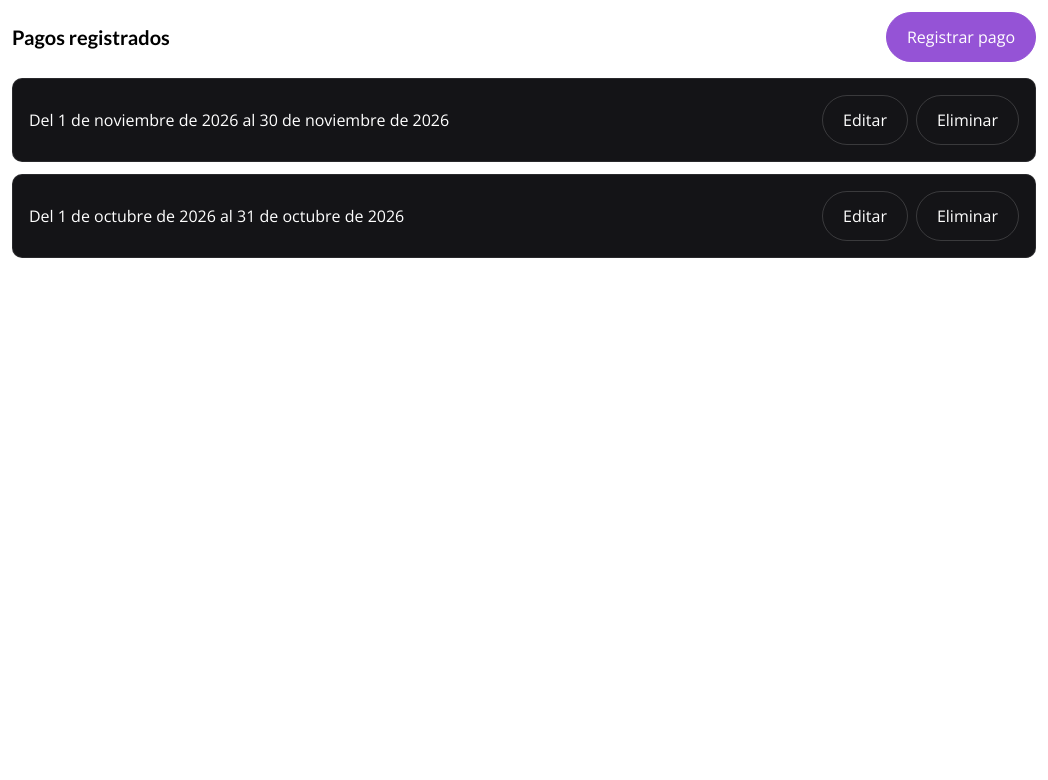
MemberPeriods › recording a payment › reads the member again when the dates overlap, and keeps the form with its message
The image size is (1048, 780).
Click the button "Registrar pago" at x=961, y=37, box [886,12,1036,62]
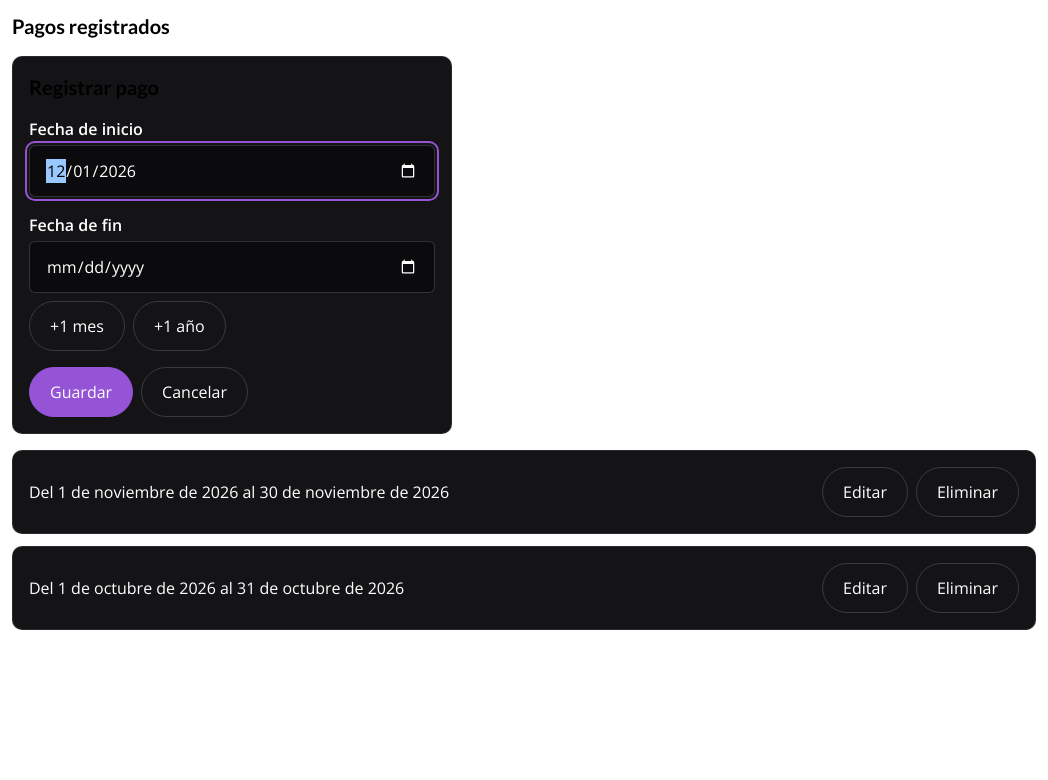
Type "2026-12-31" into the date field labelled "Fecha de fin" at x=232, y=267, box [29,241,435,293]
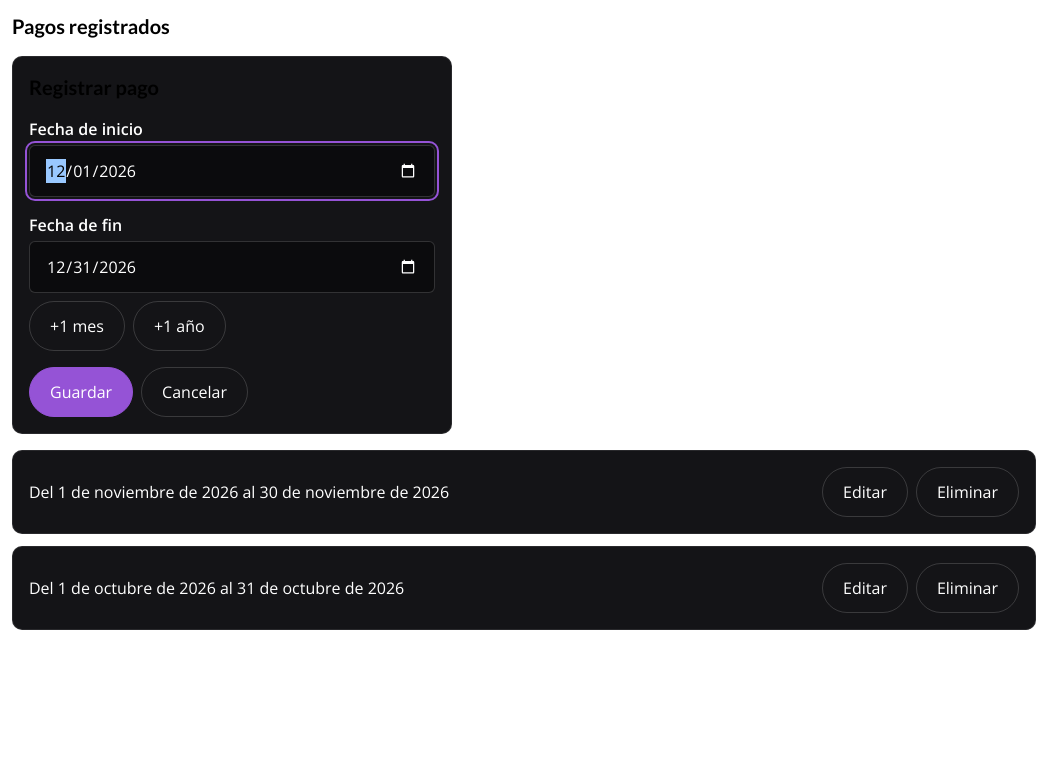
Click the button "Guardar" at x=81, y=392, box [29,367,133,417]
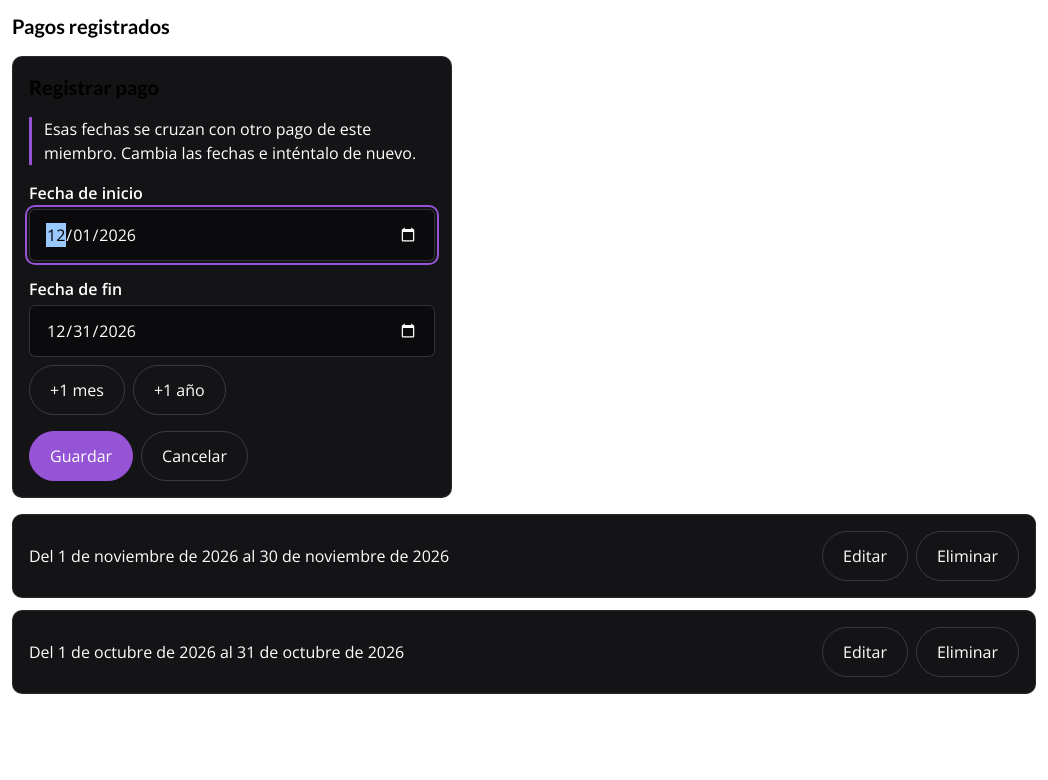
Check: the form is shown, box [12,56,452,498]
Check: the message shows "Esas fechas se cruzan con otro pago de este miembro. Cambia las fechas e inténtalo de nuevo.", box [44,118,416,164]
